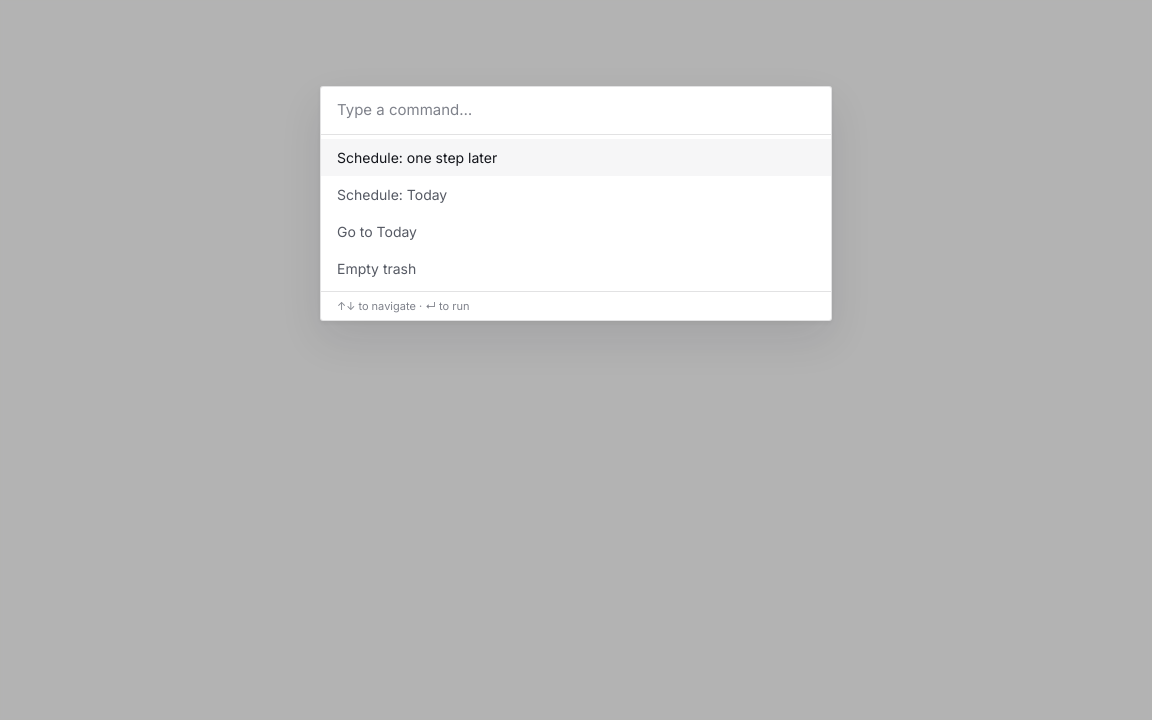
Test case: CommandPalette subsequence filter › matches multi-token subsequences: 'sche tod' finds 'Schedule: Today' only
The width and height of the screenshot is (1152, 720).
Step 1. Type "sche tod" into the field with placeholder "Type a command…" → point(576, 111), box [321,87,831,135]
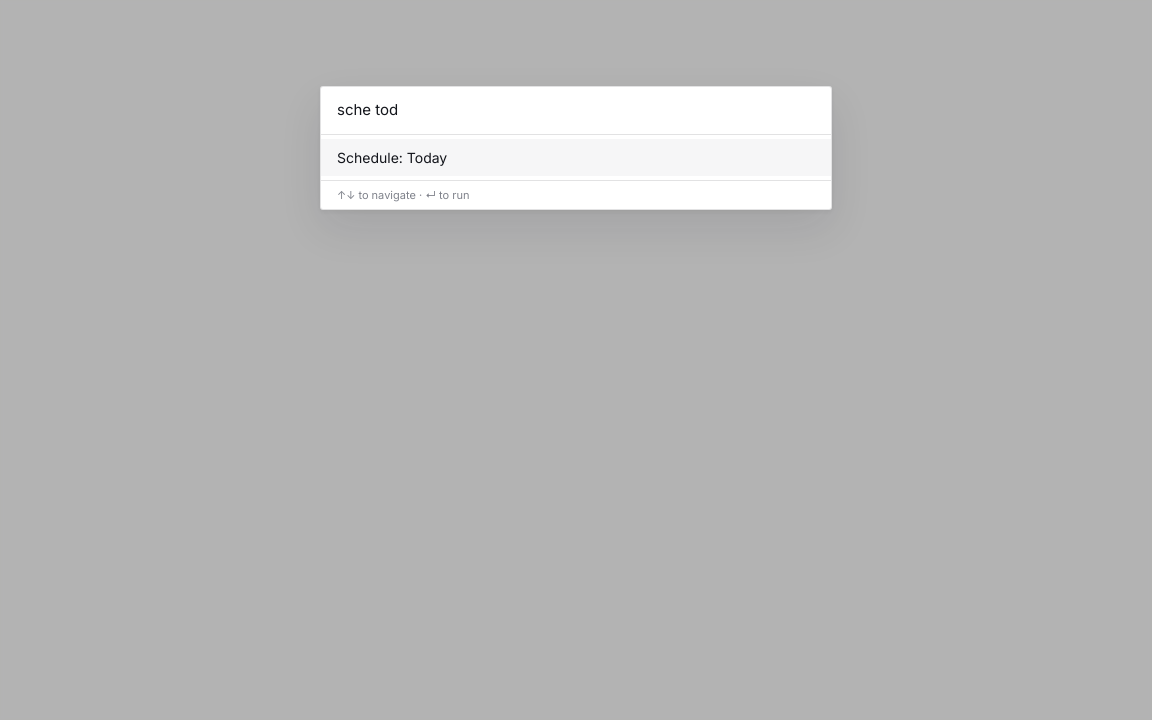
Check: the text "Schedule: Today" is shown, box [337,147,455,168]
Check: the option "Schedule: one step later" is gone
Check: the option "Go to Today" is gone
